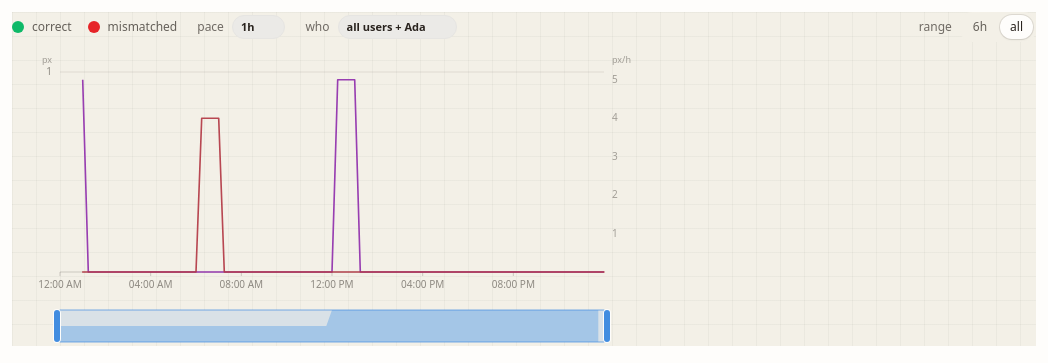
painter lines › pins everyone’s pace at the top of the picker and toggles it with the painters
The image size is (1048, 363).
Click the button "all users + Ada" at (397, 27), box [338,15,457,39]
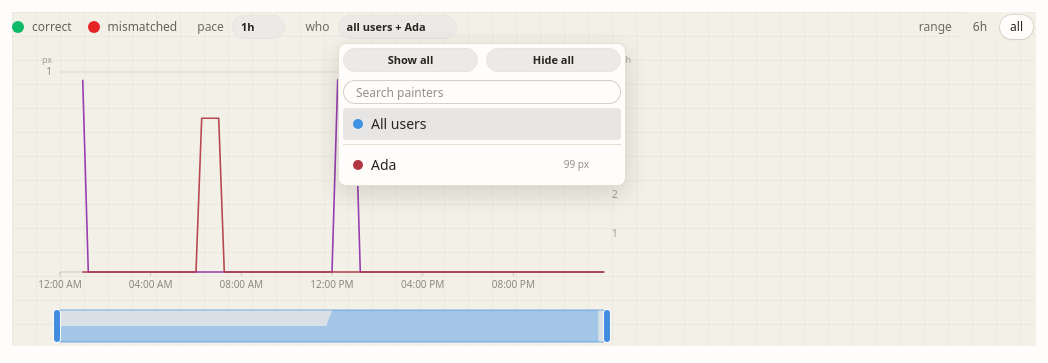
Expected: the option "All users" is shown, [343,108,621,140]
Type "zzz" into the dropdown with placeholder "Search painters" at (482, 92), box [343,80,621,104]
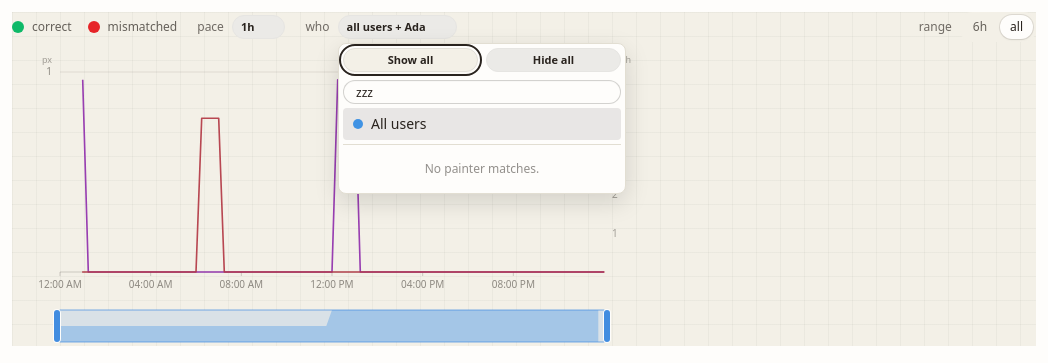
Click the option "All users" at (399, 123), box [343,108,621,140]
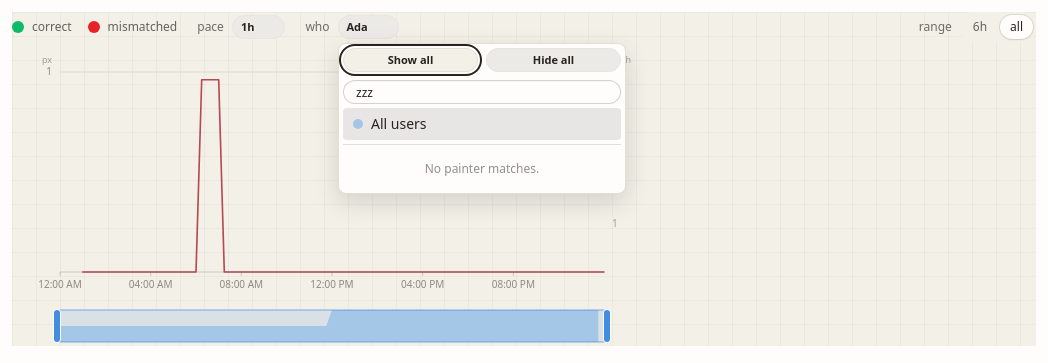
Expected: the picture named "Cumulative pixels painted and rolling pace from Jan 1, 12:00" shows "px/h", [612,53,631,66]
Expected: the button "Ada" is shown, [338,15,399,39]
Expected: the text "all users" is gone
